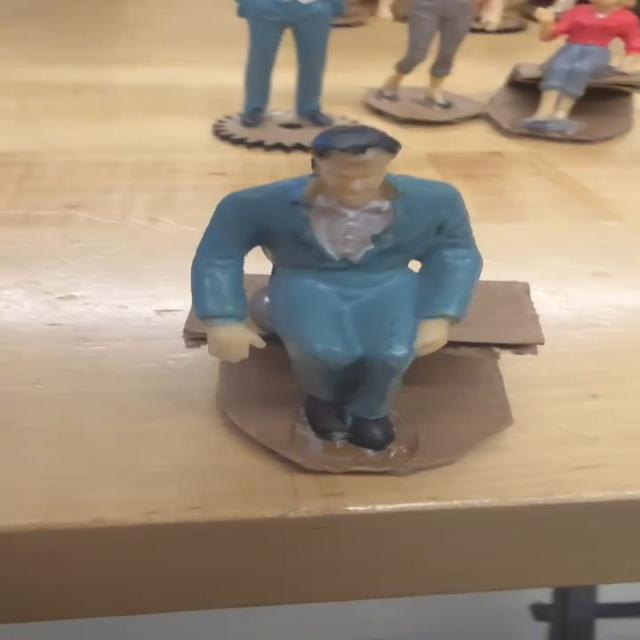Authorized: (164, 127, 500, 458)
